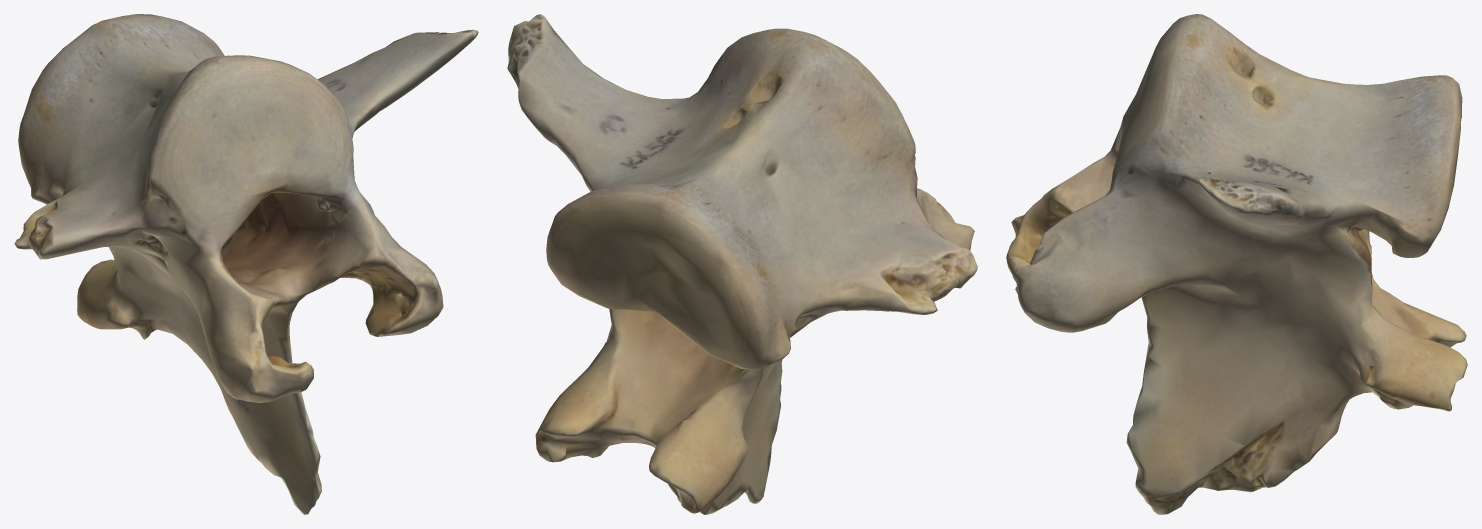
File: vertebra_lumbar.glb
3 views of the same model, side by side, from view 1: azimuth 30°, elevation 25°; view 2: azimuth 150°, elevation 25°; view 3: azimuth 270°, elevation 25° (orthographic). The views are drawn at different scales.
Size of the model in its own units: 0.0578 by 0.0587 by 0.0528.
Materials: 1 (1 with a texture image).
